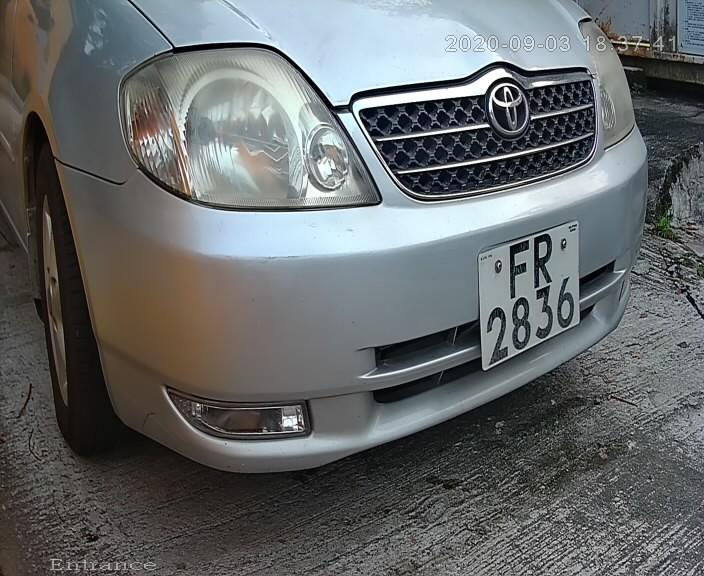License Plate: (472, 217, 588, 376)
